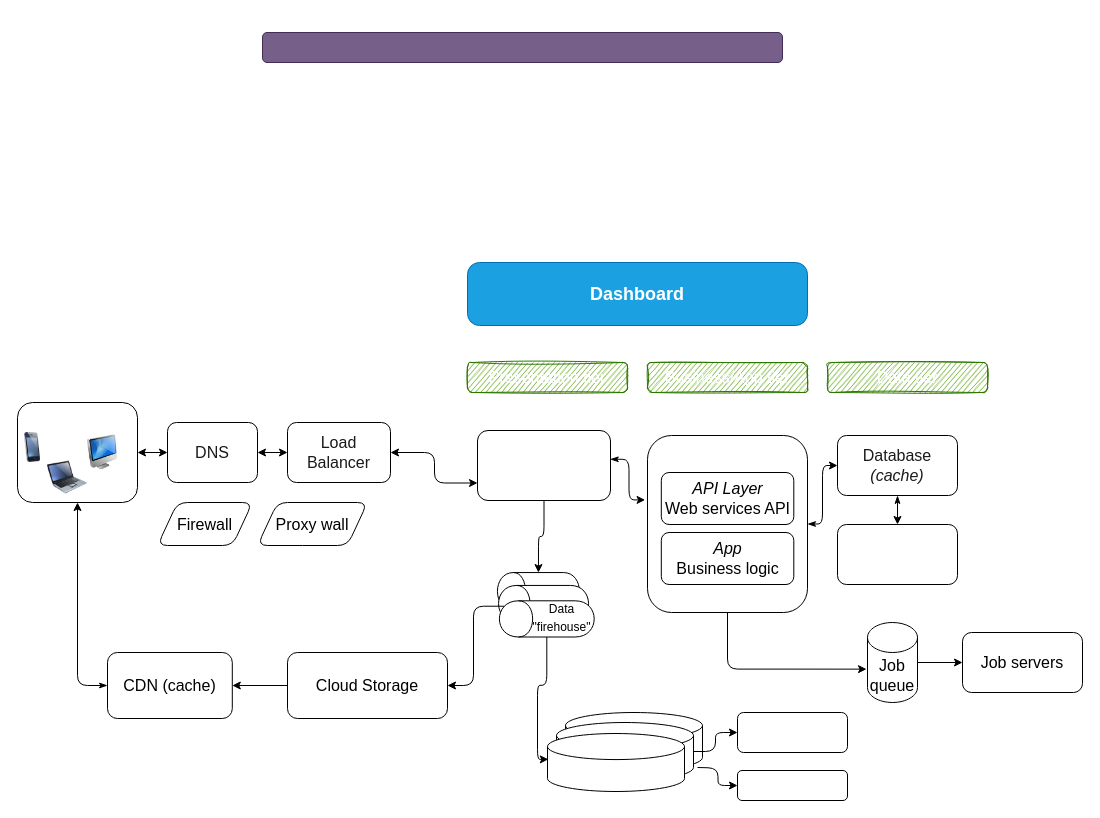
The diagram is 1100 pixels wide and 818 high, and some of its shapes have lost their labels. The shapes that lost their labels are listed below. From the top down, each one's box as (x1, y1, x2, y2) in pixels, then its label:
(262, 32, 782, 62): Web Application Architecture and Diagram
(16, 402, 138, 502): User's Browser
(476, 430, 610, 500): Web Server * Apache * nginx * IIS
(646, 434, 808, 612): App Server
(836, 524, 958, 584): Database SQL/NoSQL
(736, 712, 848, 752): BI Analytics
(546, 732, 684, 792): Data warehouse
(736, 770, 848, 800): Data Analytics
